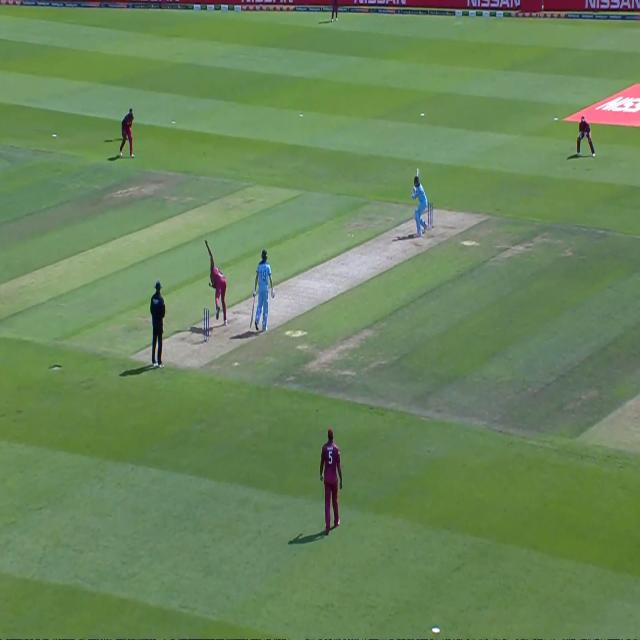ball: (349, 230, 356, 243)
